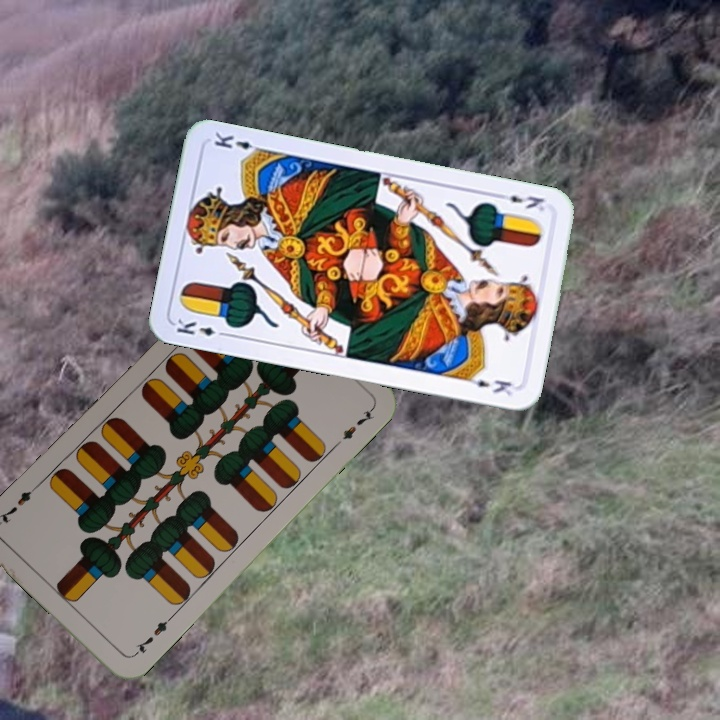E7: (129, 613, 174, 660)
EK: (172, 315, 231, 340), (493, 189, 547, 214)
